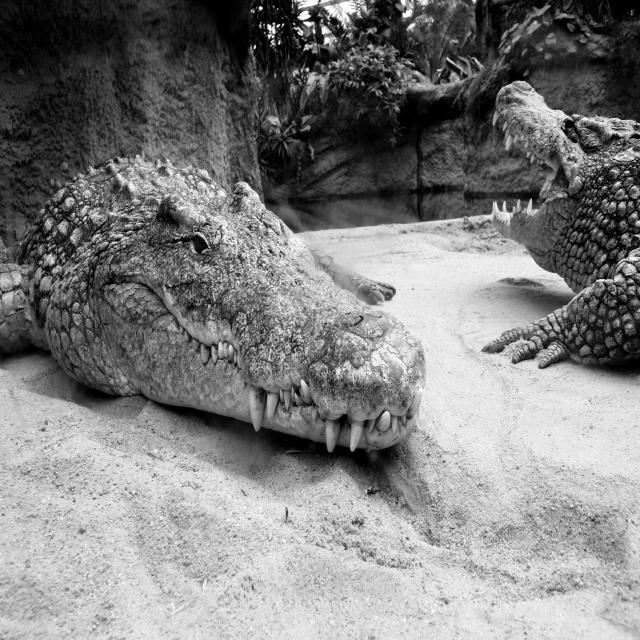crocodile: (0, 123, 455, 497)
